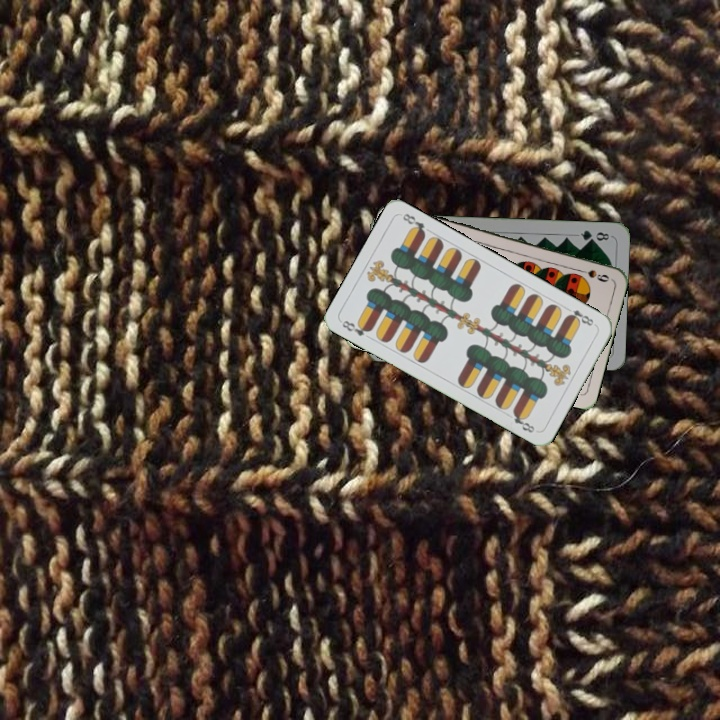E8: (561, 303, 596, 328), (338, 316, 374, 339)
G8: (577, 226, 612, 244)
S9: (572, 265, 612, 285)
